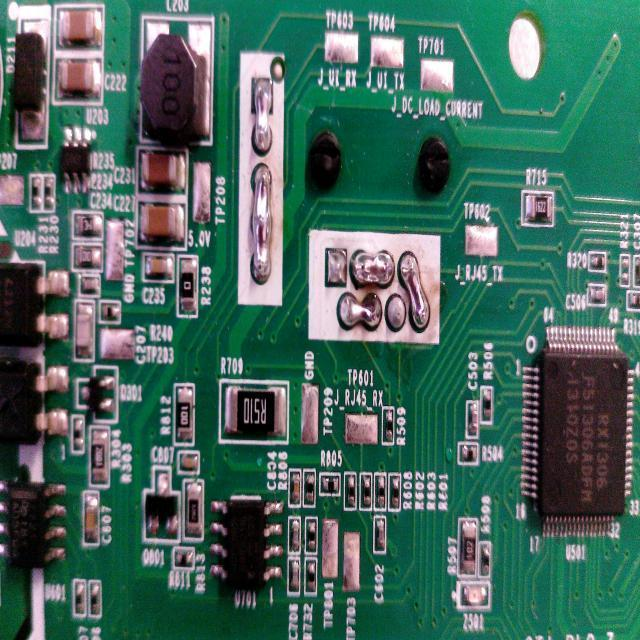Soldering shorted: (250, 158, 280, 288), (396, 249, 438, 340), (337, 289, 387, 339), (348, 242, 393, 296), (252, 75, 274, 158)
